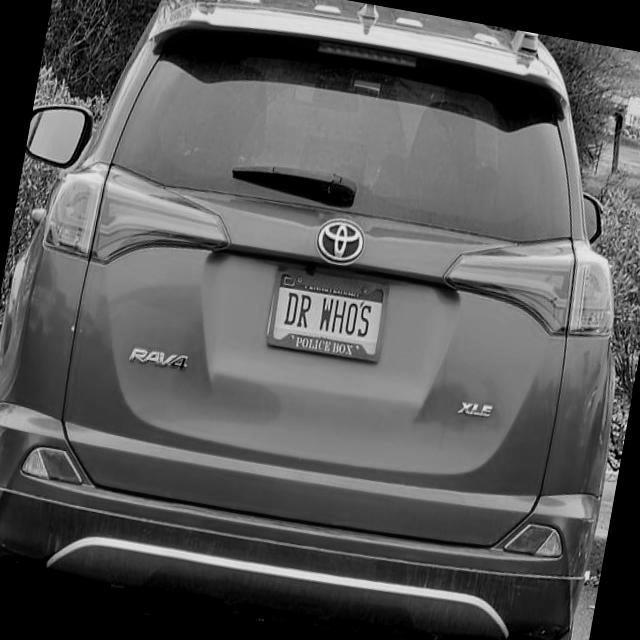LicensePlate: (262, 262, 391, 365)
